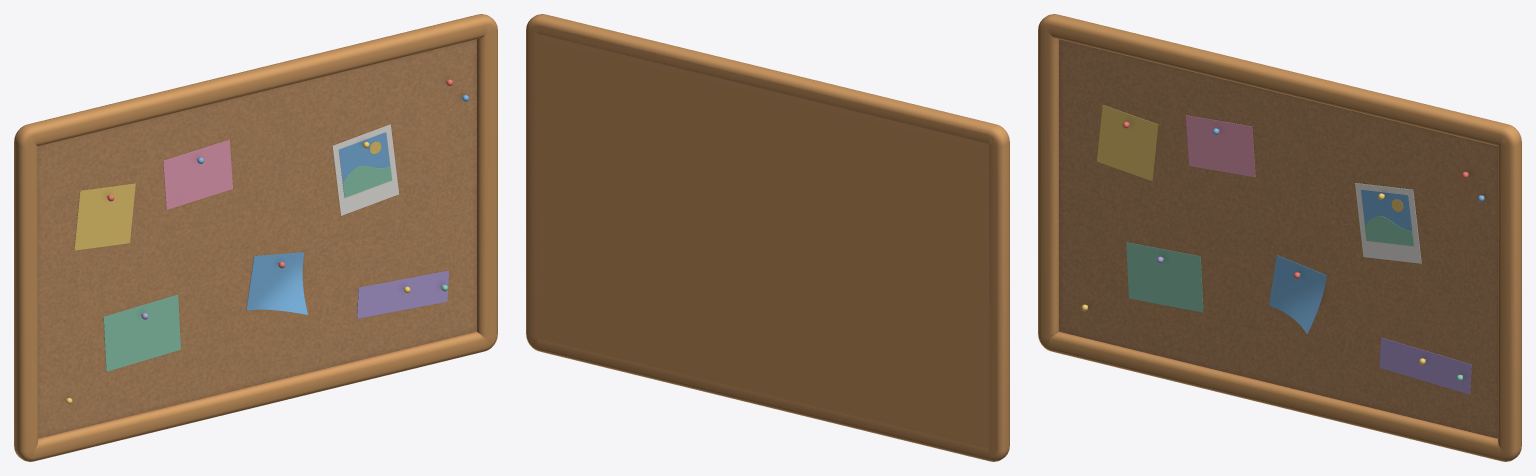
Rendered from aged-cork-bulletin-board.glb.
3 renders of one model, left to right at view 1: azimuth 30°, elevation 25°; view 2: azimuth 150°, elevation 25°; view 3: azimuth 330°, elevation 25°, orthographic.
Parts seen in each view (by area): view 1: cork-board_body; view 2: cork-board_body; view 3: cork-board_body.
Boxes of the visible parts, left/top/right/bottom form: cork-board_body: left=14, top=14, right=497, bottom=461; cork-board_body: left=526, top=14, right=1009, bottom=461; cork-board_body: left=1038, top=14, right=1521, bottom=461.
Size of the model in its own units: 0.9 by 0.6 by 0.0557.
Materials: 1 (1 with a texture image).
